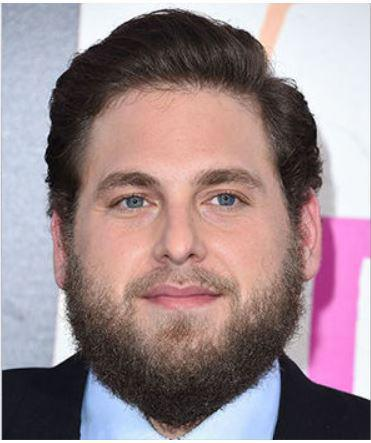Sober: (88, 111, 278, 325)
